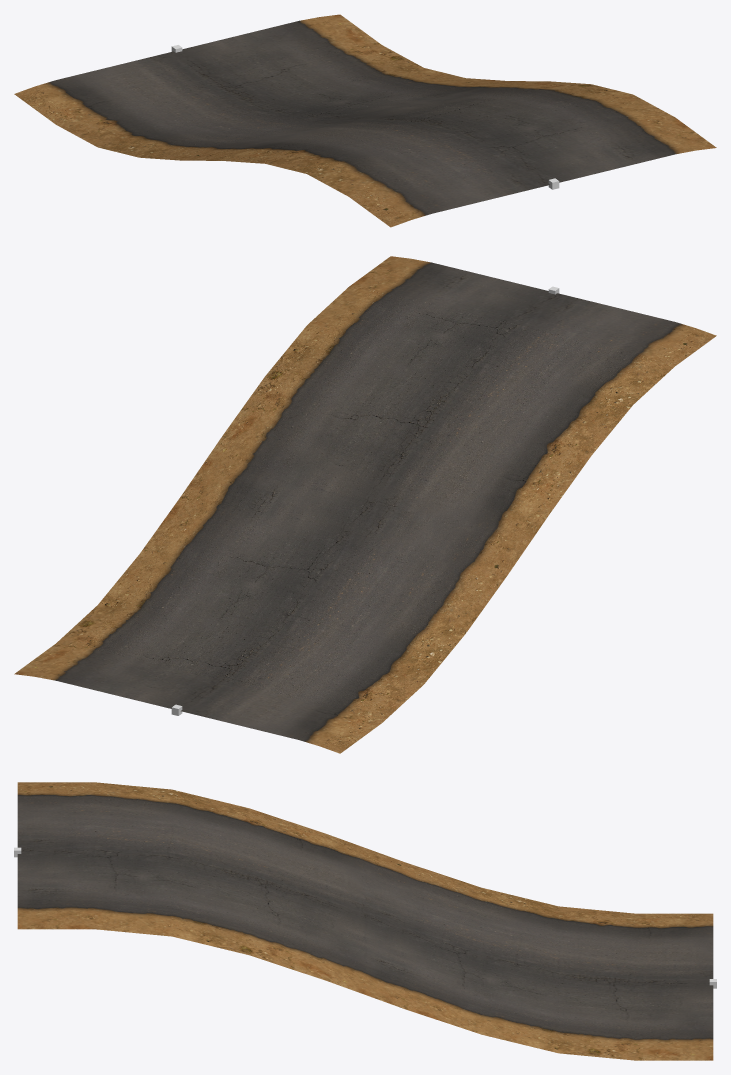
File: roadSlope.down2.fbx
3 renders of one model, top to bottom at view 1: azimuth 30°, elevation 25°; view 2: azimuth 150°, elevation 25°; view 3: azimuth 270°, elevation 25°, orthographic. The views are drawn at different scales.
Parts seen in each view (by area): view 1: MESH roadSlope.down2; view 2: MESH roadSlope.down2; view 3: MESH roadSlope.down2.
Boxes of the visible parts, bbox=[...] form: MESH roadSlope.down2: bbox=[14, 14, 716, 227]; MESH roadSlope.down2: bbox=[14, 256, 716, 753]; MESH roadSlope.down2: bbox=[17, 782, 713, 1060].
Size of what is drawn, in the model's own units: 2400 by 1051 by 4850.
